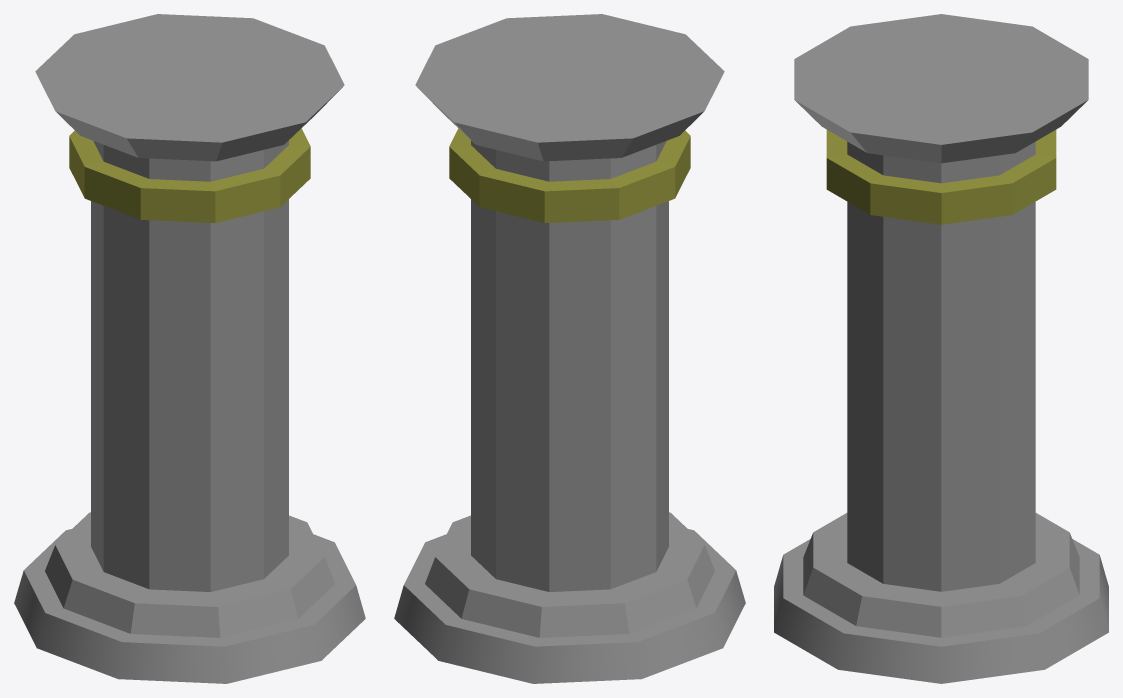
The model's file is Pillar.fbx.
3 renders of one model, left to right at view 1: azimuth 30°, elevation 25°; view 2: azimuth 150°, elevation 25°; view 3: azimuth 270°, elevation 25°, orthographic.
Parts seen in each view (by area): view 1: Cylinder001; view 2: Cylinder001; view 3: Cylinder001.
Part boxes in pixels (bbox=[...]): Cylinder001: bbox=[14, 14, 365, 683]; Cylinder001: bbox=[394, 14, 745, 683]; Cylinder001: bbox=[774, 14, 1108, 683].
Bounding box in the file's own units: 37.92 × 62.99 × 36.06.
